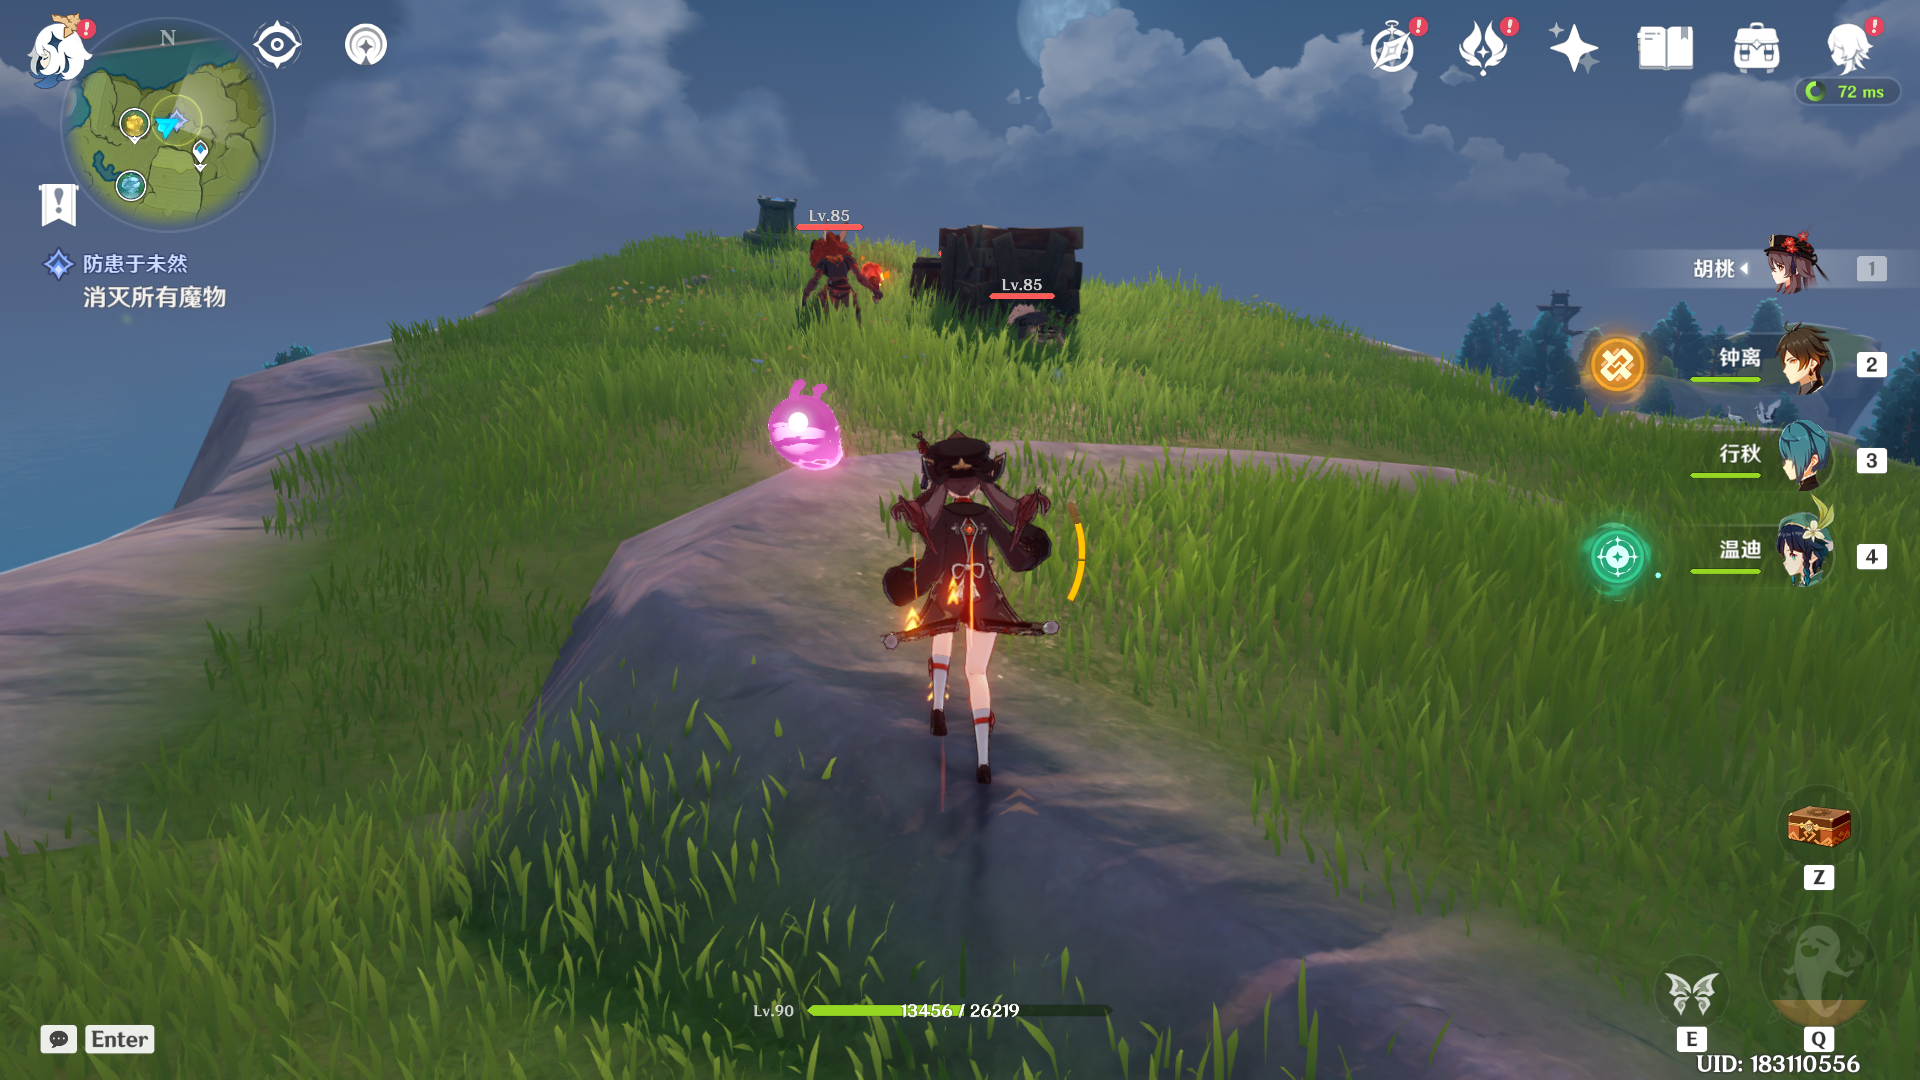character: (886, 404, 1112, 819)
hili: (754, 202, 897, 382), (986, 277, 1075, 377)
